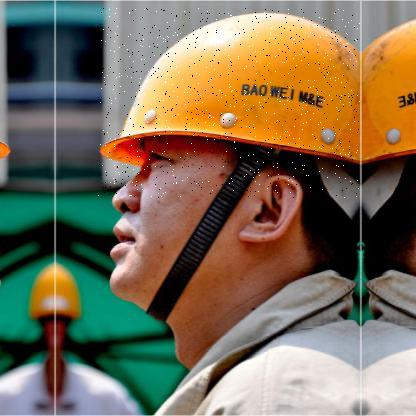safetyhelmet: (98, 8, 361, 199)
